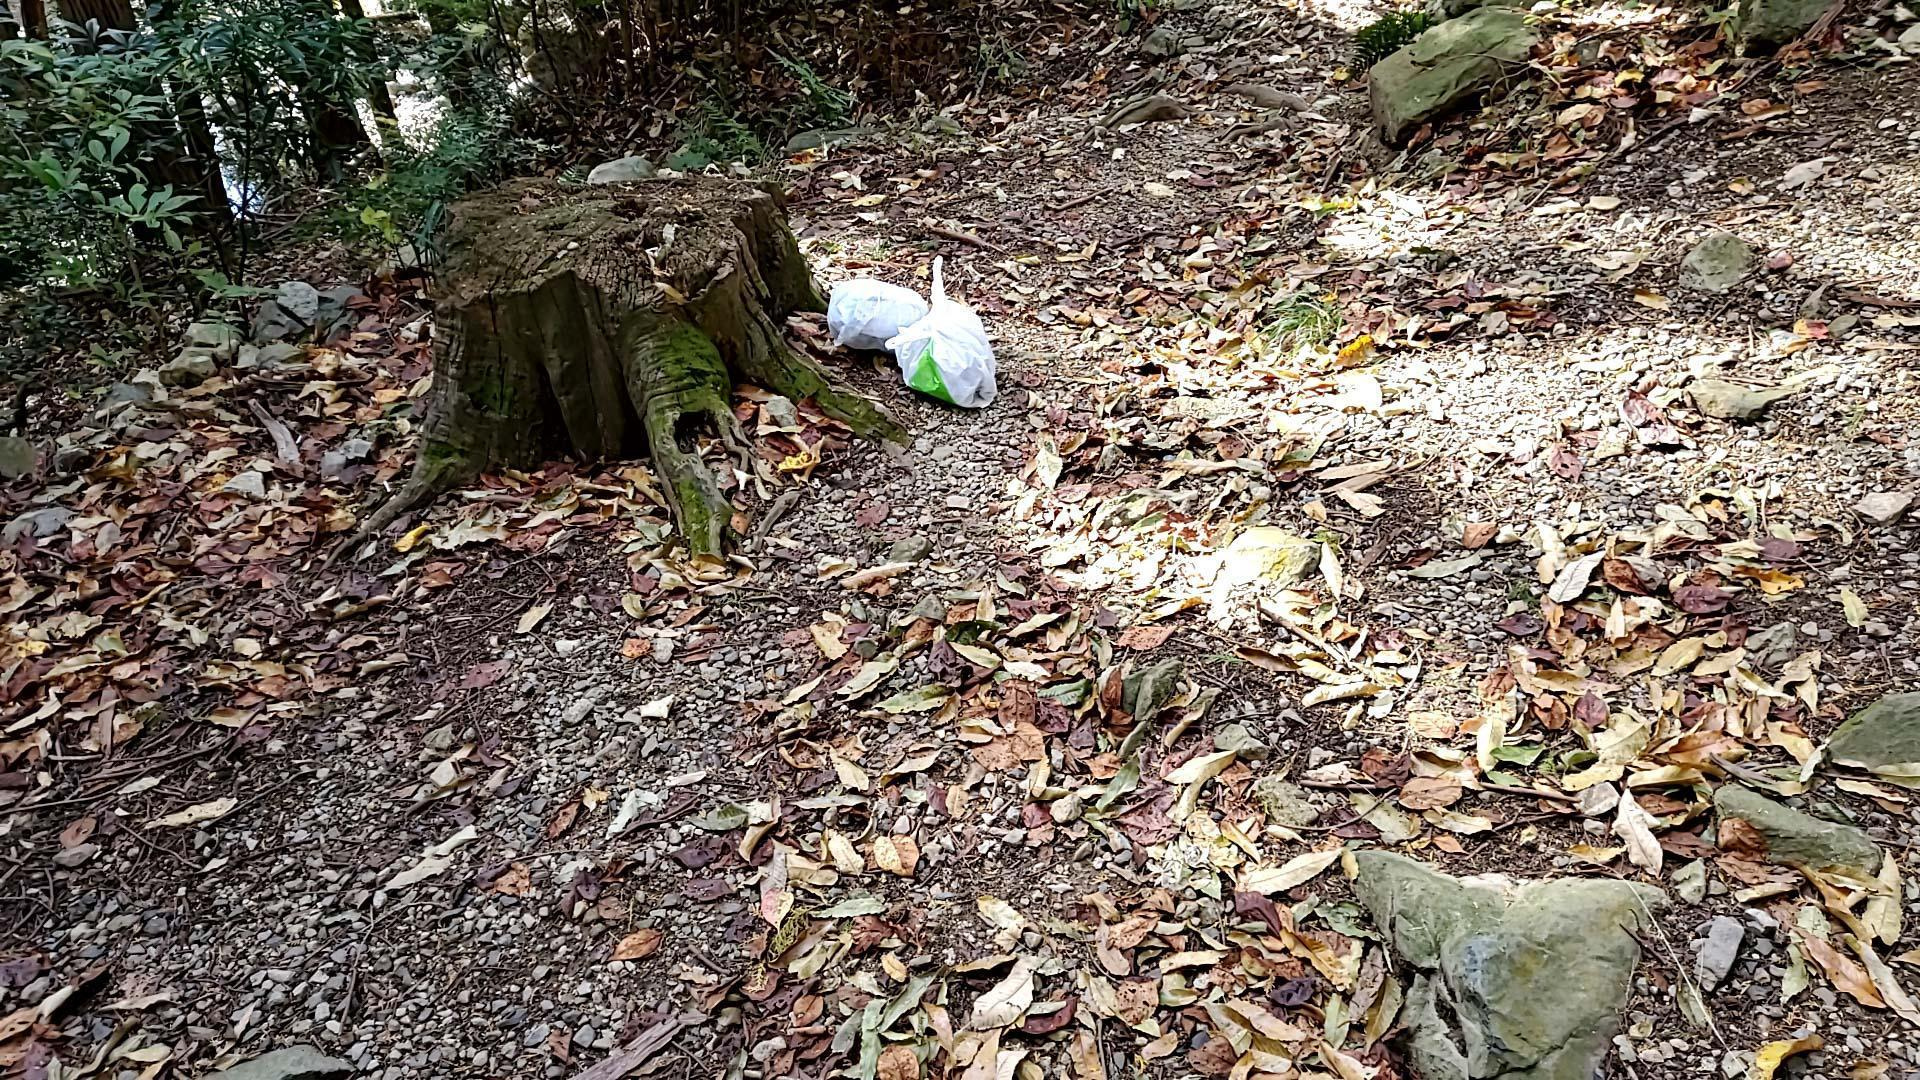white_bag: (884, 253, 1006, 415), (822, 276, 928, 352)
